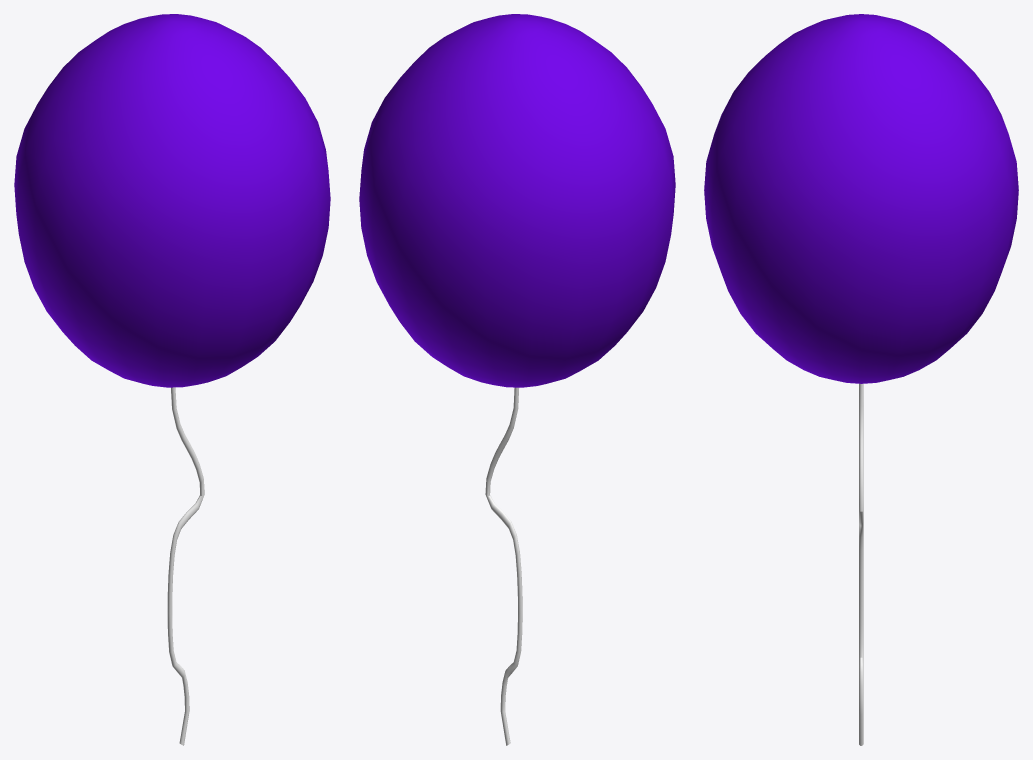
File: Balloon_export.fbx
3 renders of one model, left to right at view 1: azimuth 30°, elevation 25°; view 2: azimuth 150°, elevation 25°; view 3: azimuth 270°, elevation 25°, orthographic.
Parts seen in each view (by area): view 1: polySurface1, pCylinder1; view 2: polySurface1, pCylinder1; view 3: polySurface1, pCylinder1.
Boxes of the visible parts, bbox=[...] form: polySurface1: bbox=[14, 14, 330, 387]; pCylinder1: bbox=[167, 387, 204, 745]; polySurface1: bbox=[359, 14, 675, 387]; pCylinder1: bbox=[485, 387, 522, 745]; polySurface1: bbox=[704, 14, 1018, 383]; pCylinder1: bbox=[859, 383, 863, 745].
Size of the model in its own units: 3.01 by 7.59 by 3.01.
